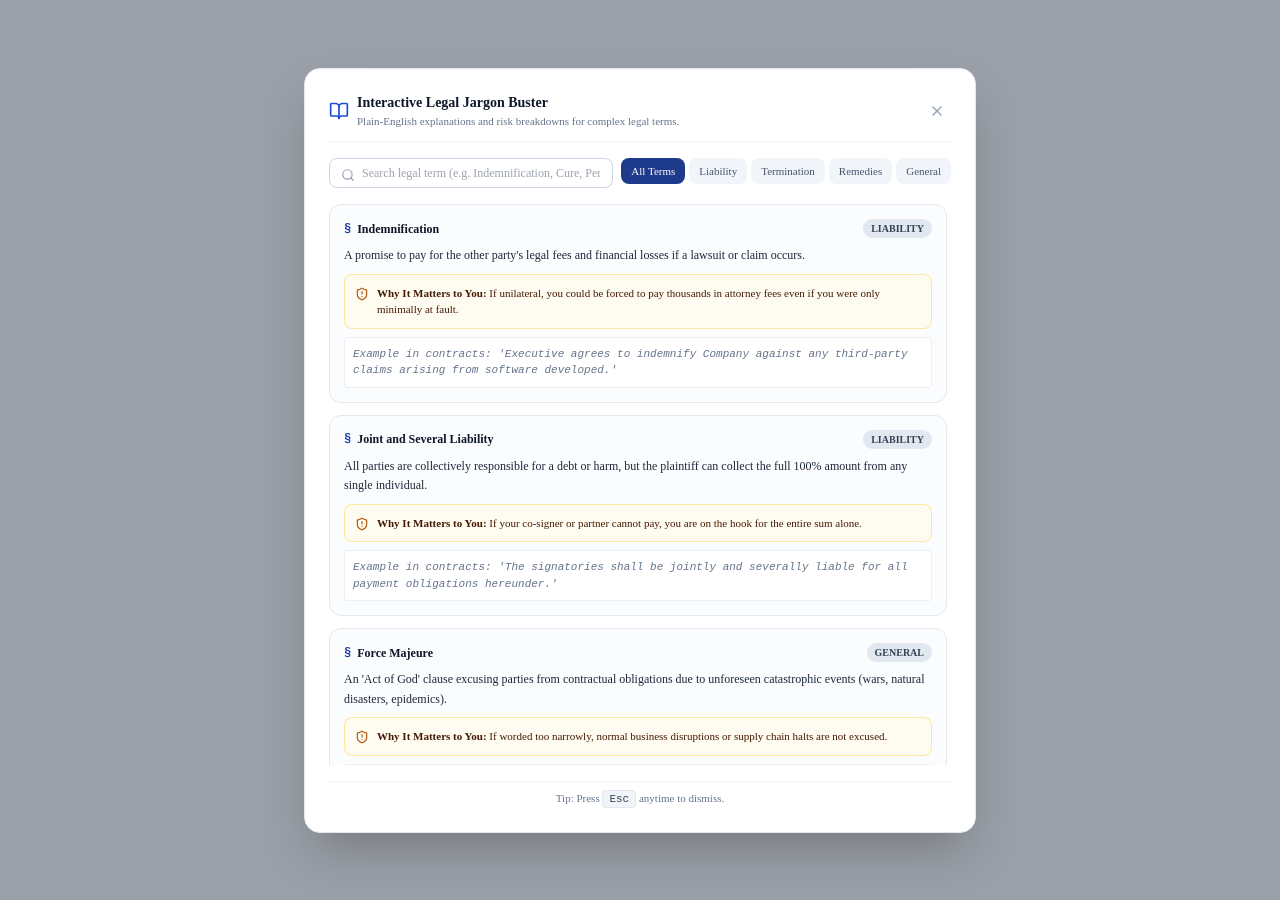
Test: New Intelligence & Assistance Features › JargonBusterModal Component › renders terms and allows filtering when isOpen is true
Expected: the heading "Interactive Legal Jargon Buster" is shown, [357,94,548,110]
Expected: the heading "§ Indemnification" is shown, [344,220,439,236]
Step 1. Replace the text in the field with placeholder "Search legal term" with "Severability" → (471, 173), box [329,158,613,188]
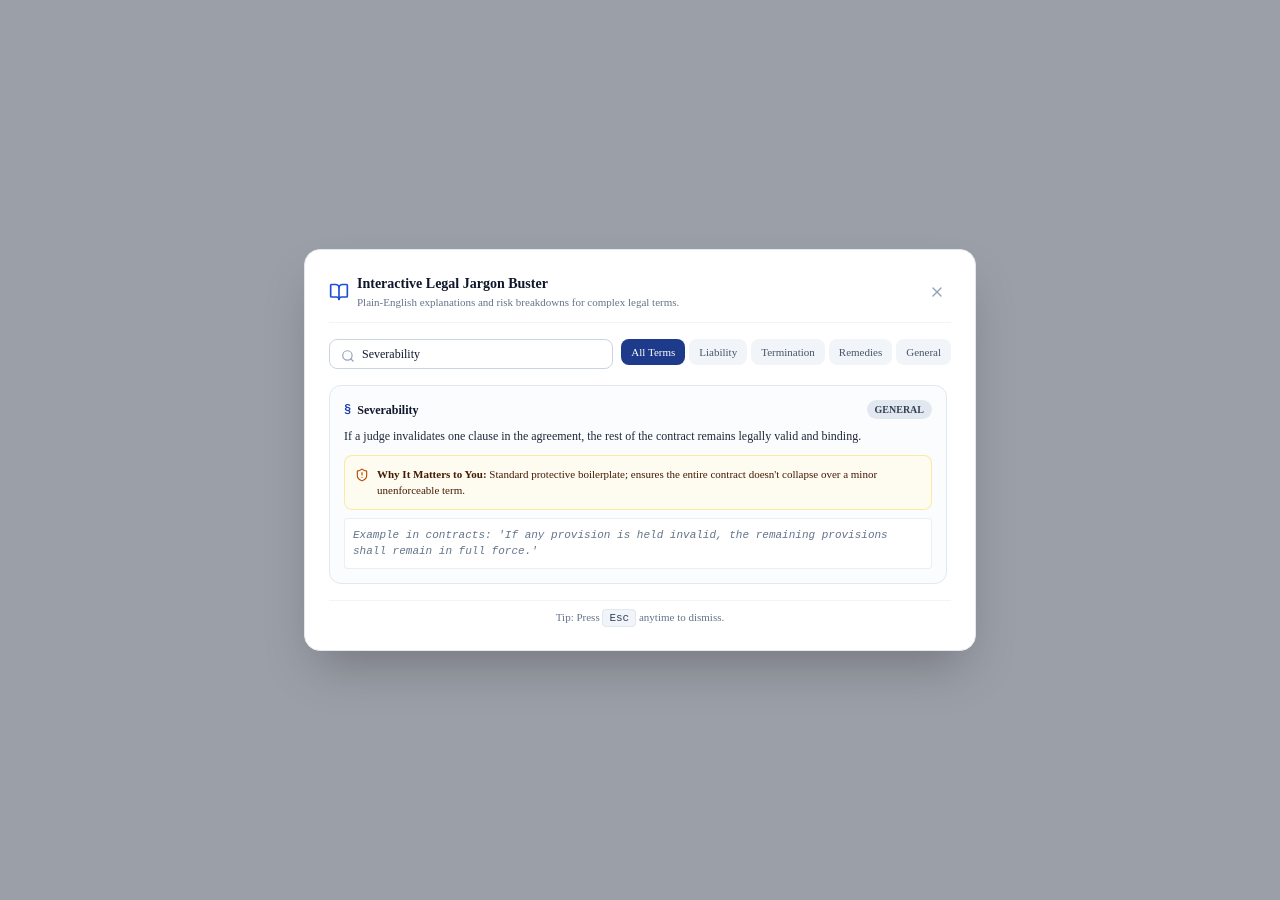
Result: the heading "§ Severability" is shown at [344,402,418,418]
